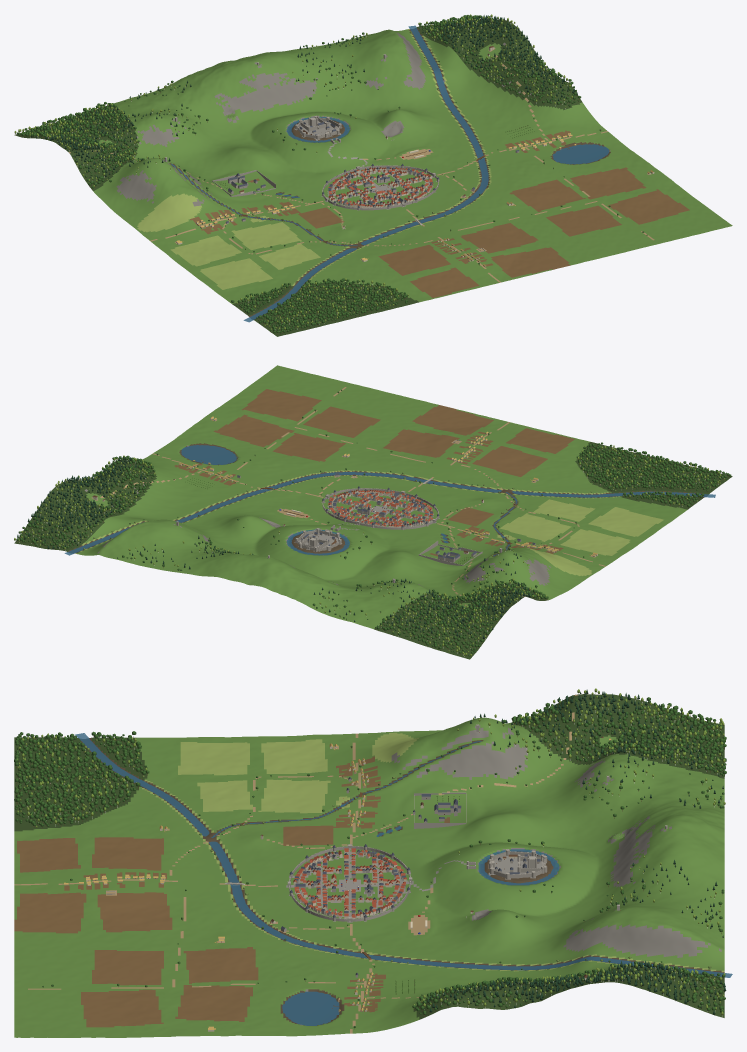
Rendered from ashford_vale_preview.glb.
3 renders of one model, top to bottom at view 1: azimuth 30°, elevation 25°; view 2: azimuth 150°, elevation 25°; view 3: azimuth 270°, elevation 25°, orthographic. The views are drawn at different scales.
Visible parts, largest first — view 1: Terrain, Trees - King's Chase, Trees - Southwood, Trees - The Wildwood, River Ash, Trees - hillside, Eastmere Water, WALL-04 Town wall; view 2: Terrain, Trees - The Wildwood, Trees - King's Chase, Trees - Southwood, River Ash, Trees - hillside, Eastmere Water, WALL-04 Town wall; view 3: Terrain, Trees - The Wildwood, Trees - Southwood, Trees - King's Chase, River Ash, Trees - hillside, Eastmere Water, WALL-04 Town wall, Castle Moat.
Part boxes in pixels (left/top/right/bottom): Terrain: left=14, top=19, right=732, bottom=336; Trees - King's Chase: left=418, top=14, right=581, bottom=108; Trees - Southwood: left=231, top=278, right=408, bottom=334; Trees - The Wildwood: left=14, top=102, right=139, bottom=189; River Ash: left=243, top=25, right=488, bottom=322; Trees - hillside: left=109, top=32, right=400, bottom=189; Eastmere Water: left=552, top=144, right=609, bottom=164; WALL-04 Town wall: left=322, top=165, right=438, bottom=210; Terrain: left=14, top=365, right=732, bottom=659; Trees - The Wildwood: left=375, top=578, right=548, bottom=656; Trees - King's Chase: left=14, top=455, right=155, bottom=550; Trees - Southwood: left=576, top=442, right=731, bottom=508; River Ash: left=64, top=472, right=715, bottom=555; Trees - hillside: left=117, top=518, right=537, bottom=621; Eastmere Water: left=181, top=445, right=237, bottom=464; WALL-04 Town wall: left=322, top=488, right=438, bottom=529; Terrain: left=14, top=694, right=724, bottom=1037; Trees - The Wildwood: left=511, top=688, right=726, bottom=776; Trees - Southwood: left=14, top=731, right=149, bottom=828; Trees - King's Chase: left=412, top=960, right=726, bottom=1017; River Ash: left=75, top=733, right=732, bottom=977; Trees - hillside: left=426, top=713, right=725, bottom=937; Eastmere Water: left=282, top=991, right=339, bottom=1025; WALL-04 Town wall: left=289, top=846, right=410, bottom=921; Castle Moat: left=478, top=849, right=559, bottom=885.
Bounding box in the file's own units: 2091 × 200 × 2073.
